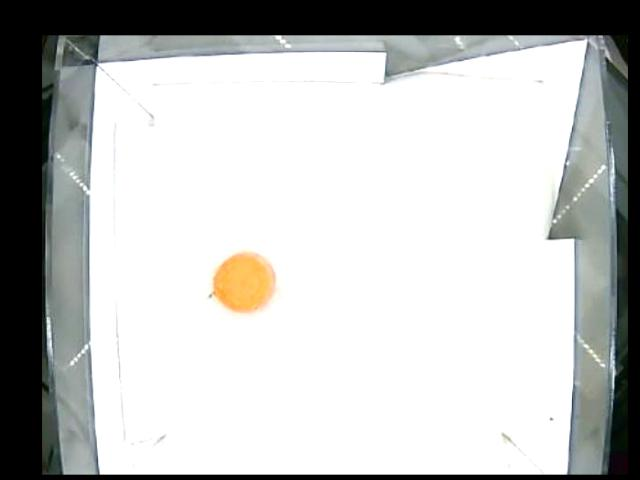Carrot: (213, 249, 275, 317)
